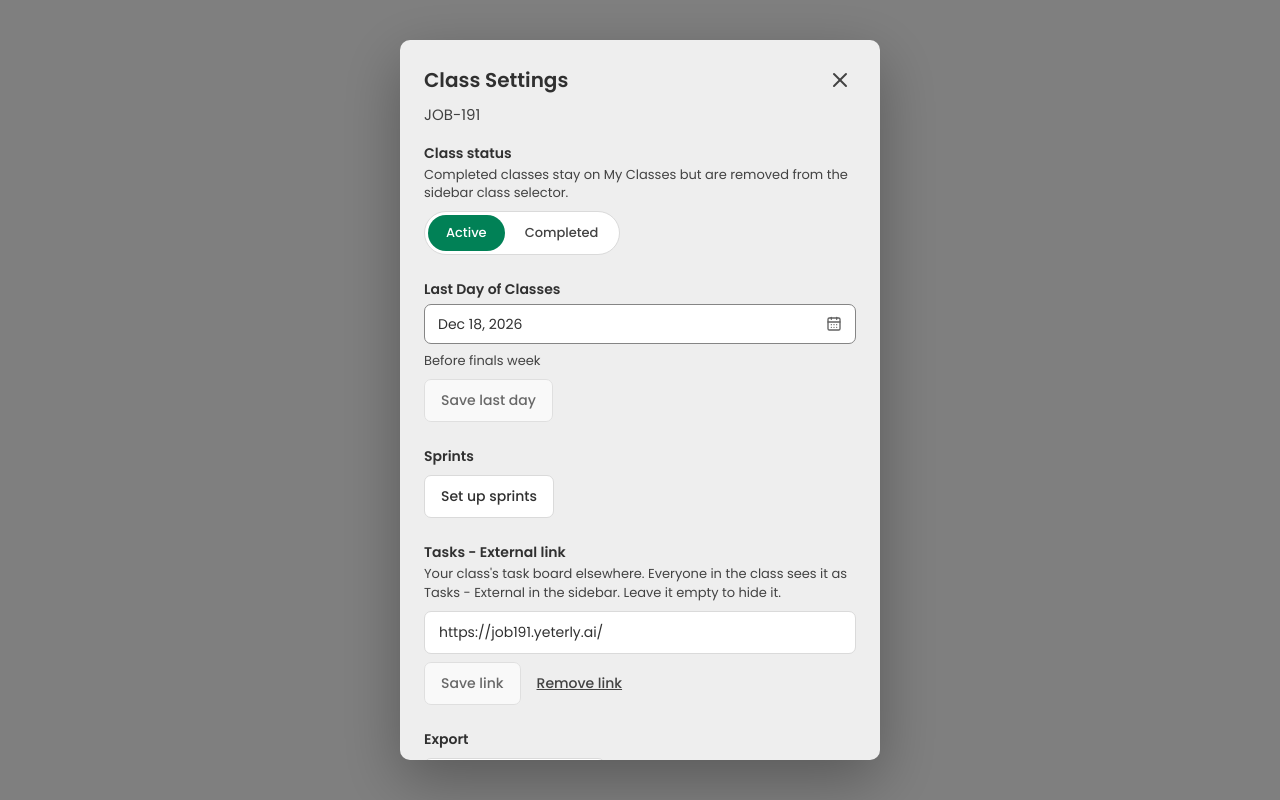
Test: ClassSettingsModal — Tasks - External link › keeps keyboard focus in the link box when the button pressed goes away
Click the button "Remove link" at x=579, y=683, box [536, 673, 622, 694]
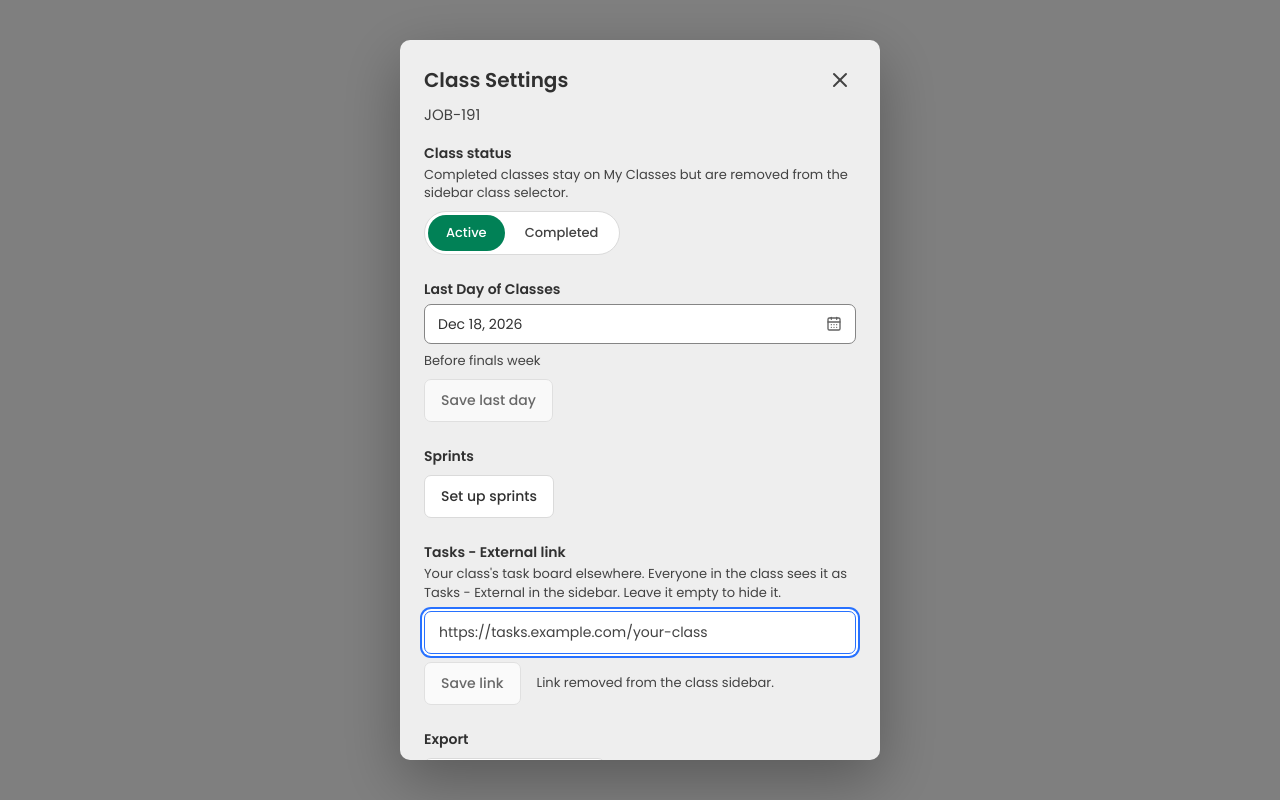
expect the message "Link removed from the class sidebar." is shown: met, box [536, 674, 774, 693]
Type "https://job191.yeterly.ai/" into the field labelled "Tasks - External link" at x=640, y=632, box [424, 611, 856, 654]
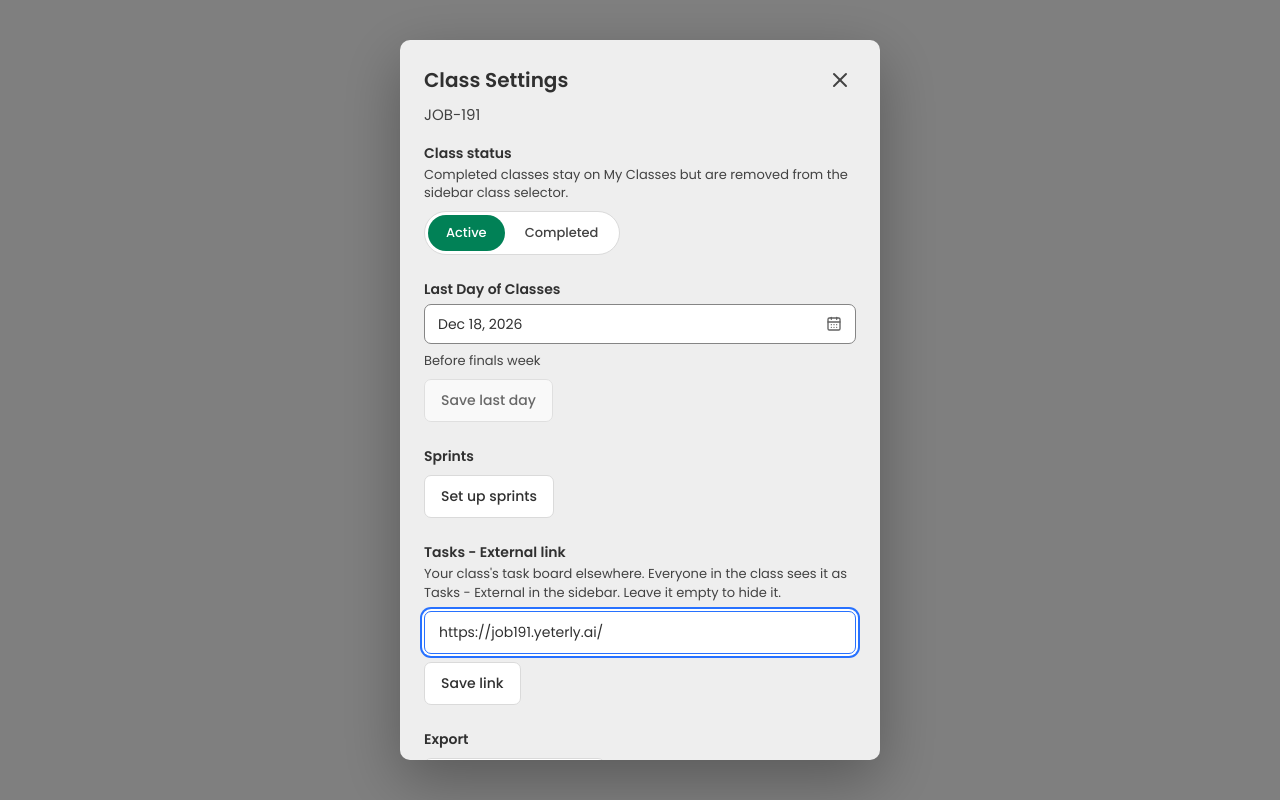
Click the button "Save link" at x=472, y=683, box [424, 662, 520, 705]
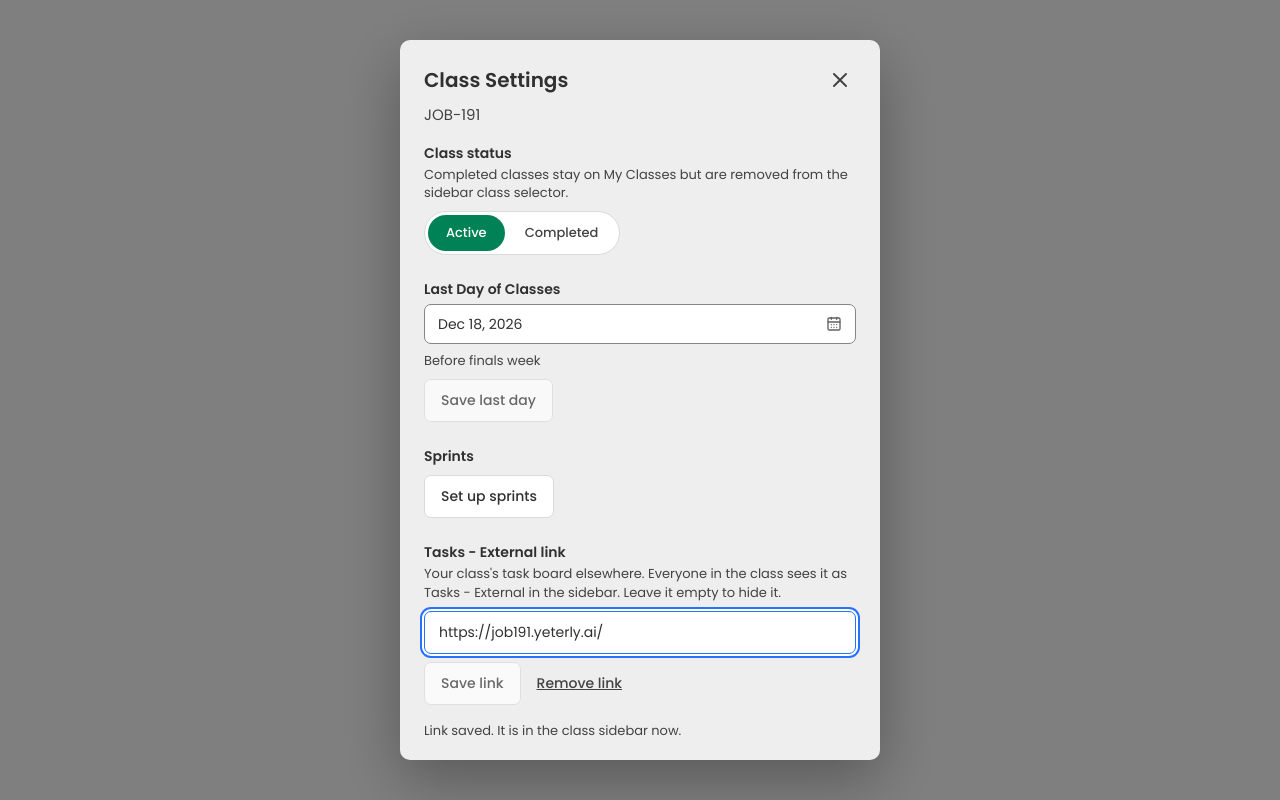
expect the message shows "saved": met, box [424, 721, 681, 740]
